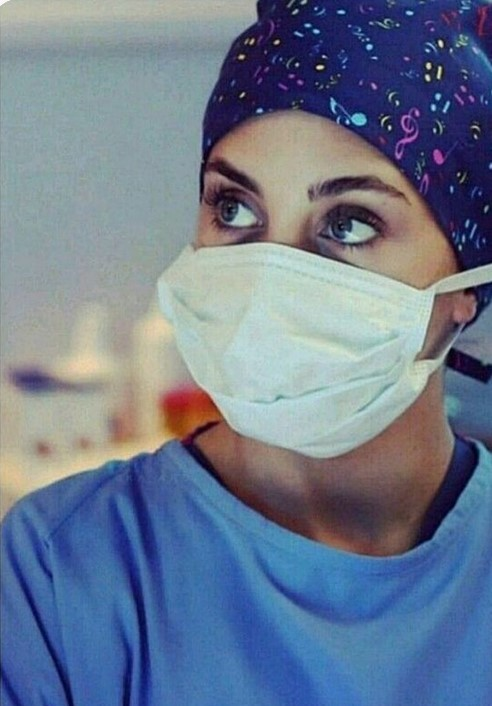face_with_mask: (152, 5, 488, 460)
